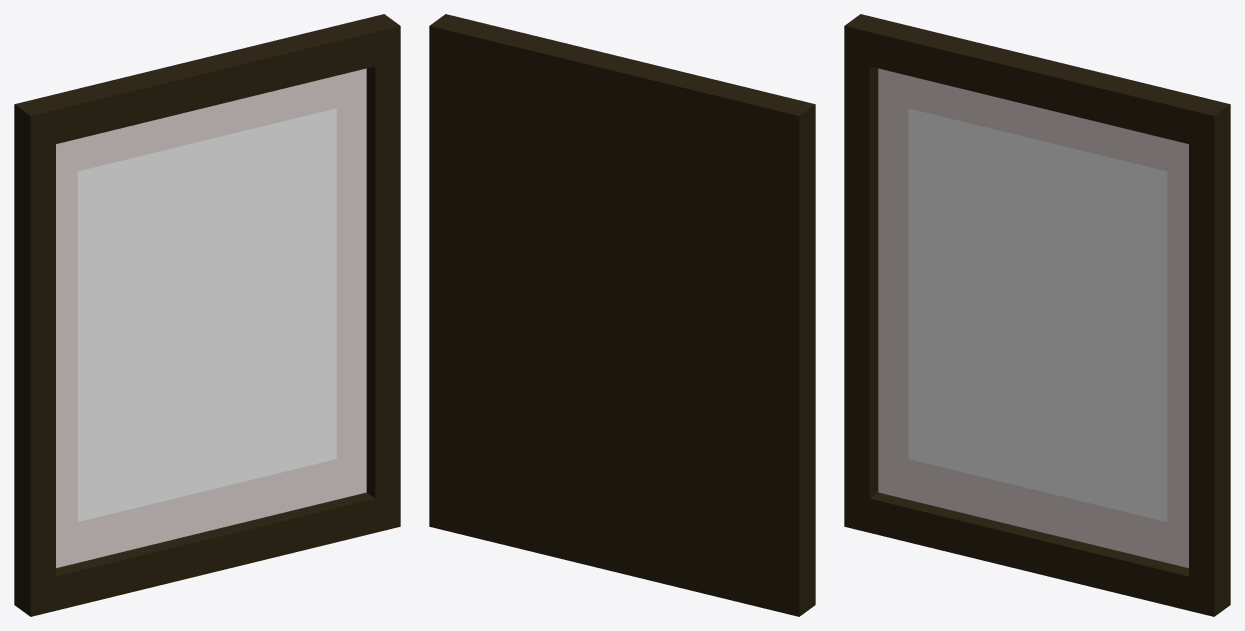
File: Prop_Paint_08.fbx
3 views of the same model, side by side, from view 1: azimuth 30°, elevation 25°; view 2: azimuth 150°, elevation 25°; view 3: azimuth 330°, elevation 25° (orthographic).
Parts seen in each view (by area): view 1: Prop_Paint_08; view 2: Prop_Paint_08; view 3: Prop_Paint_08.
Boxes of the visible parts, x1,y1,x2,y2 form: Prop_Paint_08: [14, 14, 400, 616]; Prop_Paint_08: [429, 14, 815, 616]; Prop_Paint_08: [844, 14, 1230, 616].
Bounding box in the file's own units: 35.58 × 46.05 × 2.7.
